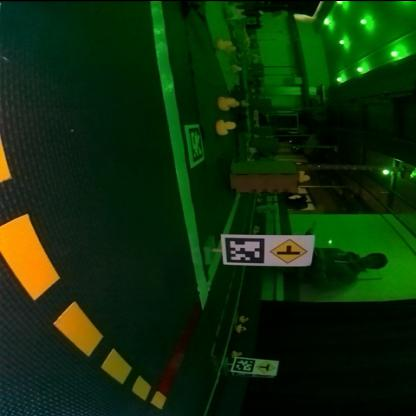Duckie: (216, 120, 235, 134), (218, 98, 236, 110), (298, 170, 310, 182), (237, 324, 247, 332), (233, 350, 242, 358), (240, 316, 250, 323)
Intersection sign: (270, 238, 310, 264), (256, 360, 276, 374)
QR code: (225, 239, 266, 263), (186, 124, 204, 168), (233, 358, 256, 372)
